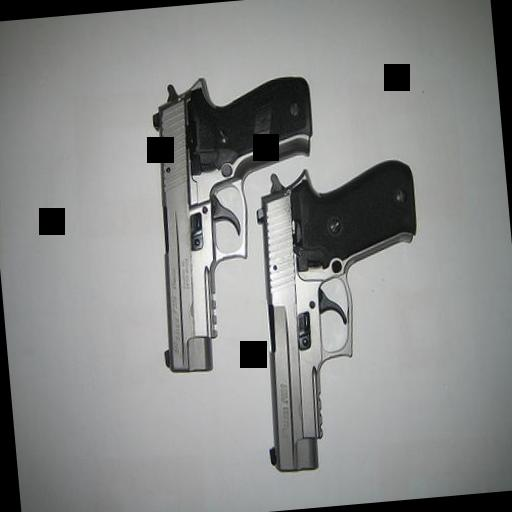Handgun: (242, 158, 436, 472), (137, 66, 332, 372)
